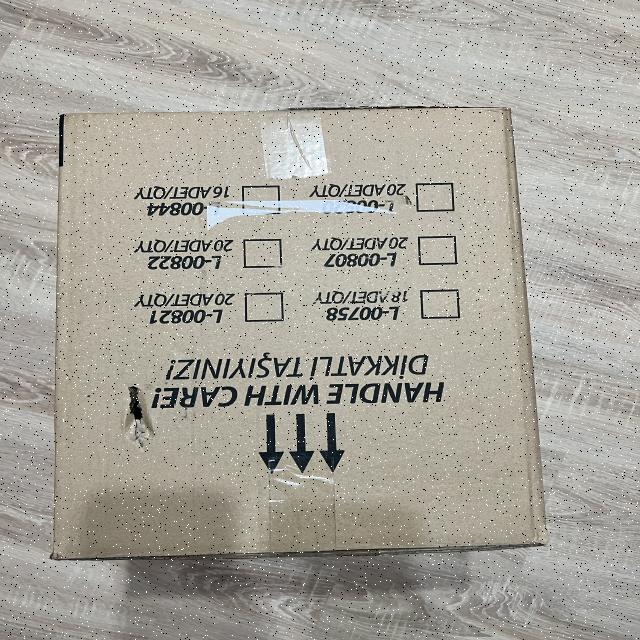damaged: (40, 104, 542, 558), (101, 370, 176, 456)
